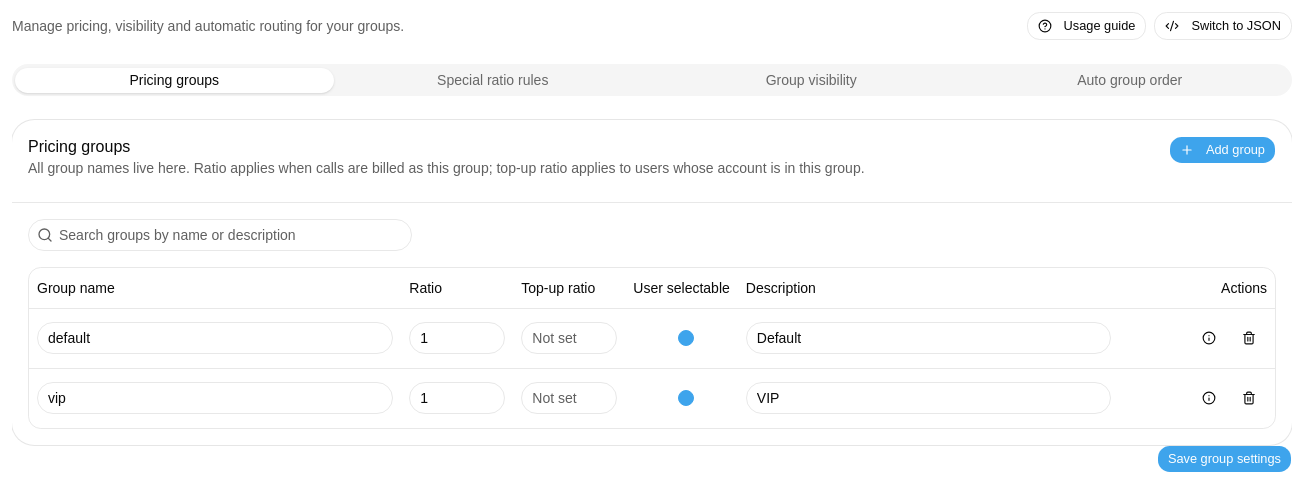
Test case: saving group changes disables repeated submissions until the result arrives
Click the button "Save group settings" at (1224, 459), box left=1157, top=445, right=1292, bottom=473
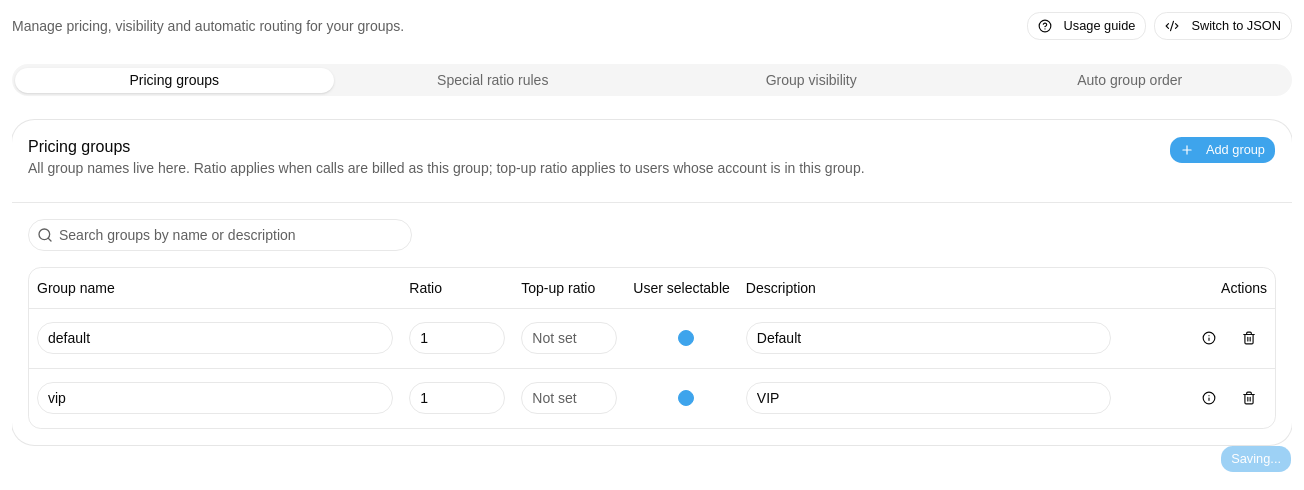
Expected: the button "Saving..." is disabled
Click the button "Saving..." at (1256, 459), box left=1220, top=445, right=1292, bottom=473
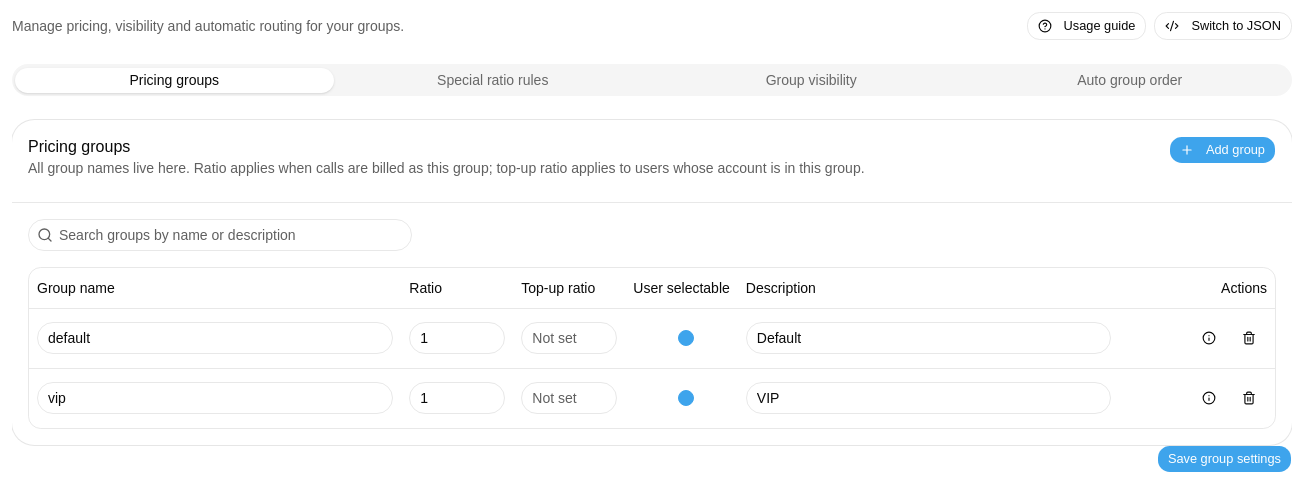
Expected: the button "Save group settings" is enabled, left=1157, top=445, right=1292, bottom=473
